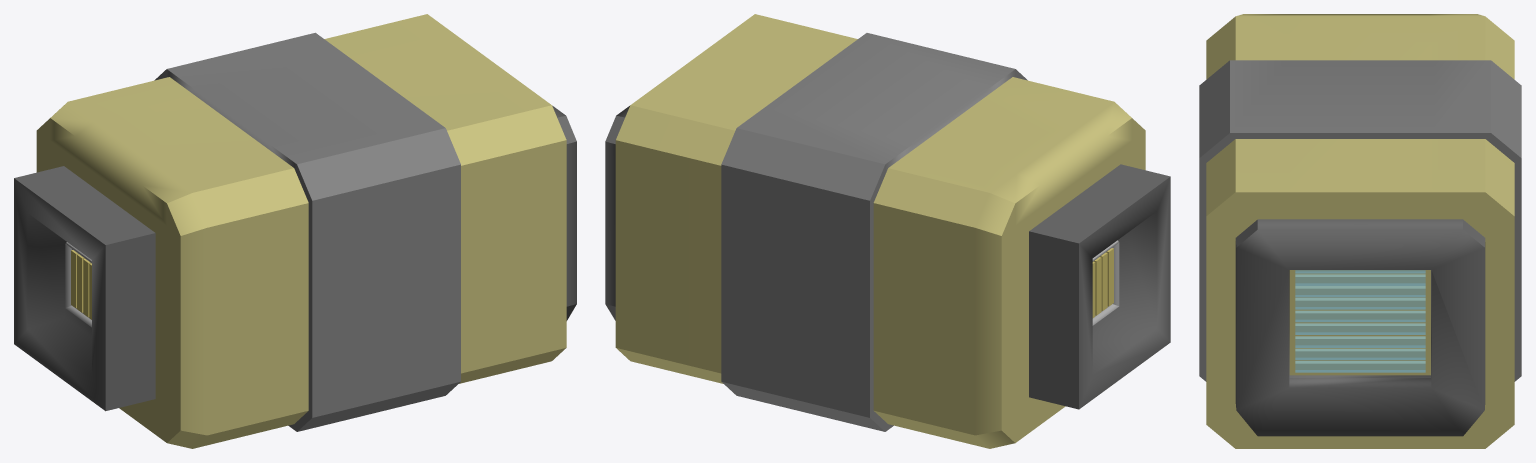
Rendered from battery.fbx.
The picture shows the model from 3 angles, left to right: view 1: azimuth 30°, elevation 25°; view 2: azimuth 150°, elevation 25°; view 3: azimuth 270°, elevation 25°; orthographic projection.
Visible parts, largest first — view 1: polySurface1; view 2: polySurface1; view 3: polySurface1.
Boxes of the visible parts, <box> form: polySurface1: <box>14,14,576,448</box>; polySurface1: <box>605,14,1170,448</box>; polySurface1: <box>1199,14,1521,448</box>.
Size of the model in its own units: 2.88 by 1.61 by 1.76.
